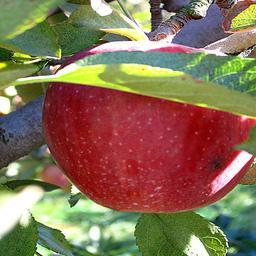apple: (41, 39, 256, 212)
